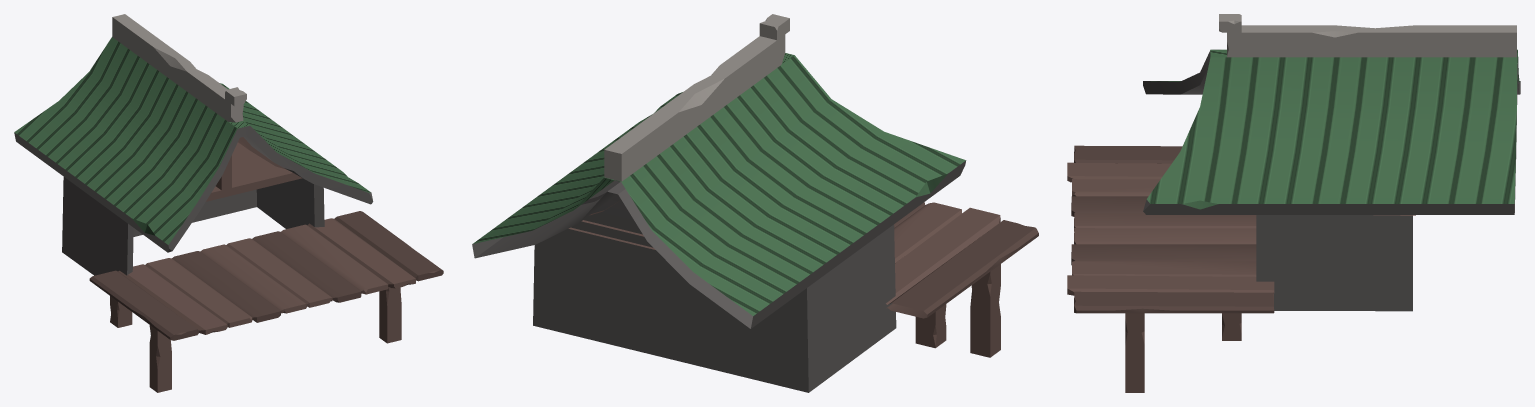
Rendered from SM_Env_Roof_18.fbx.
3 views of the same model, side by side, from view 1: azimuth 30°, elevation 25°; view 2: azimuth 150°, elevation 25°; view 3: azimuth 270°, elevation 25° (orthographic). The views are drawn at different scales.
Parts seen in each view (by area): view 1: SM_Env_Roof_18; view 2: SM_Env_Roof_18; view 3: SM_Env_Roof_18.
Boxes of the visible parts, x1=… form: SM_Env_Roof_18: x1=14, y1=14, x2=443, y2=392; SM_Env_Roof_18: x1=472, y1=14, x2=1038, y2=392; SM_Env_Roof_18: x1=1067, y1=14, x2=1520, y2=392.
Bounding box in the file's own units: 111 × 95.66 × 130.
1 material, 1 textured.
